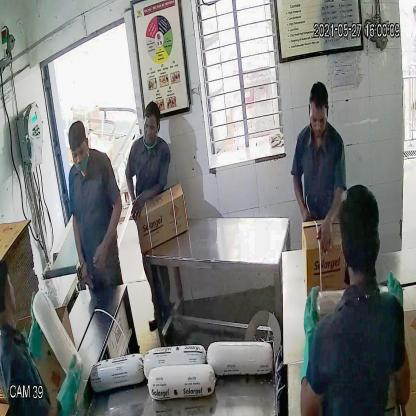no_goggles: (66, 141, 91, 165), (307, 110, 332, 129)
